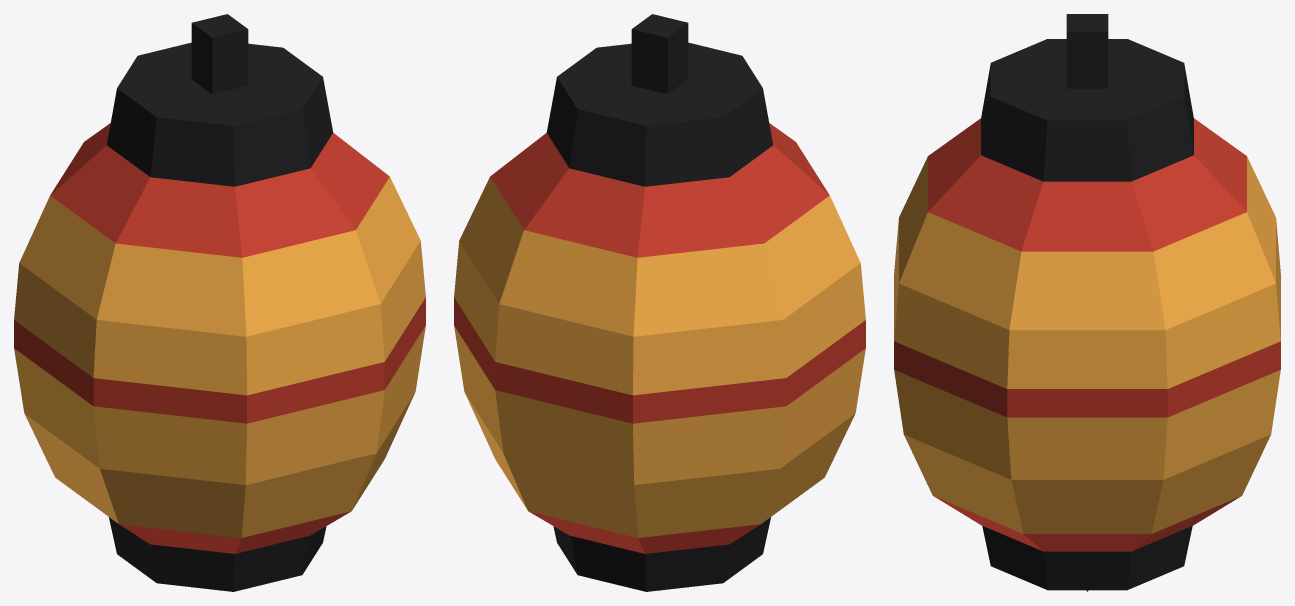
File: lantern_hanging.fbx
3 renders of one model, left to right at view 1: azimuth 30°, elevation 25°; view 2: azimuth 150°, elevation 25°; view 3: azimuth 270°, elevation 25°, orthographic.
Parts seen in each view (by area): view 1: lantern_hanging; view 2: lantern_hanging; view 3: lantern_hanging.
Part boxes in pixels (<box>): lantern_hanging: <box>14,14,425,591</box>; lantern_hanging: <box>454,14,865,591</box>; lantern_hanging: <box>894,14,1280,591</box>.
Bounding box in the file's own units: 0.3696 × 0.6 × 0.3696.
